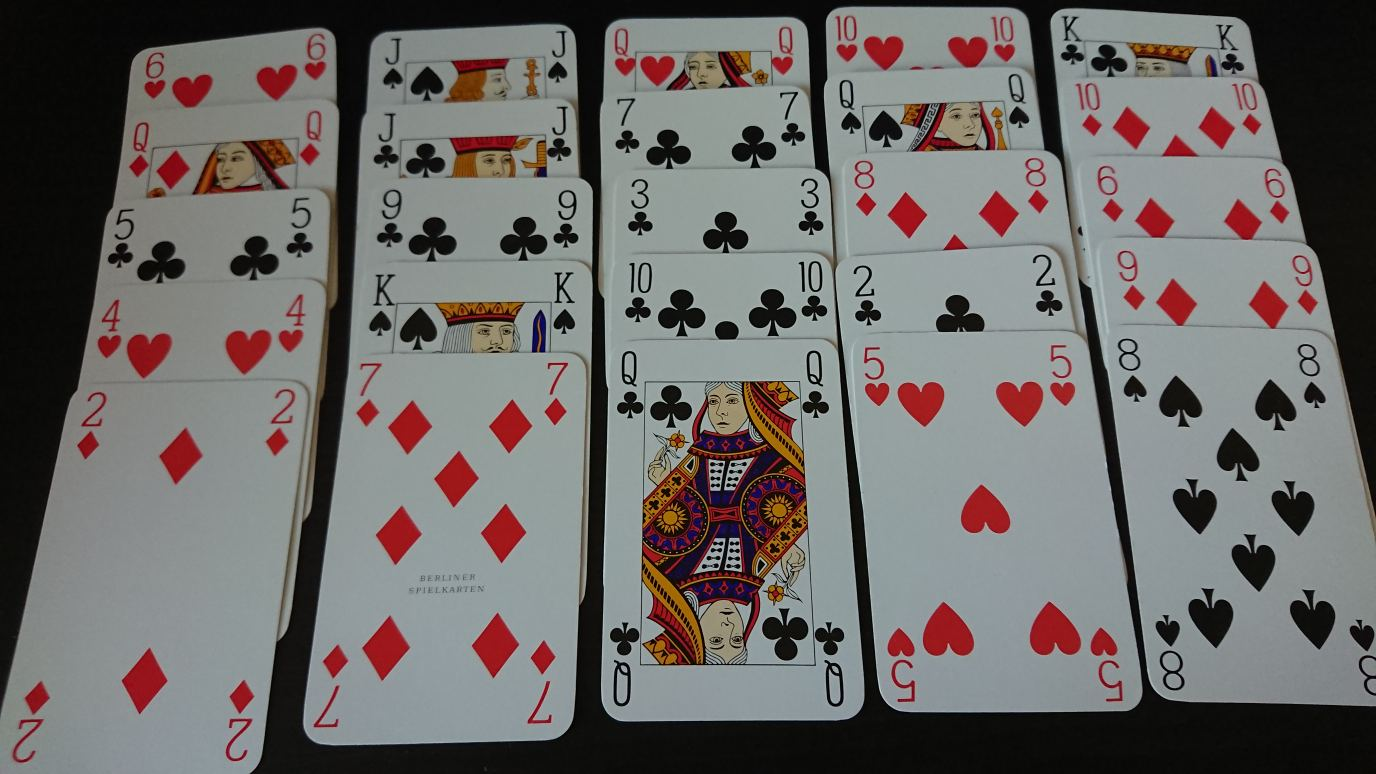10C: (794, 258, 830, 326), (621, 259, 656, 326)
10D: (1229, 80, 1266, 138), (1072, 80, 1105, 139)
10H: (987, 11, 1020, 65), (830, 10, 860, 66)
2C: (1028, 250, 1065, 319), (847, 262, 882, 331)
2D: (72, 386, 112, 467), (260, 384, 300, 461)
3C: (620, 175, 657, 239), (793, 174, 827, 240)
4H: (275, 287, 313, 361), (92, 296, 127, 366)
5C: (282, 187, 320, 262), (104, 205, 140, 273)
5H: (1044, 340, 1081, 411), (857, 343, 892, 411)
6D: (1092, 159, 1128, 225), (1260, 165, 1295, 229)
6H: (300, 27, 333, 84), (139, 45, 170, 104)
7C: (774, 89, 811, 150), (610, 94, 641, 159)
7D: (350, 359, 387, 430), (539, 357, 571, 428)
8D: (1020, 155, 1053, 217), (850, 157, 880, 219)
8S: (1111, 335, 1151, 406), (1292, 340, 1330, 411)
9C: (549, 186, 583, 253), (373, 187, 408, 250)
9D: (1110, 247, 1147, 312), (1288, 252, 1323, 317)
JC: (539, 101, 577, 167), (369, 106, 404, 174)
JS: (378, 33, 410, 95), (543, 26, 575, 85)
KC: (1213, 20, 1249, 77), (1055, 11, 1089, 67)
KS: (365, 270, 400, 339), (547, 268, 580, 337)
QC: (799, 346, 833, 422), (614, 348, 648, 423)
QD: (120, 115, 157, 183), (295, 105, 328, 172)
QH: (768, 20, 799, 78), (609, 24, 638, 80)
QS: (1002, 71, 1034, 132), (835, 76, 865, 137)
